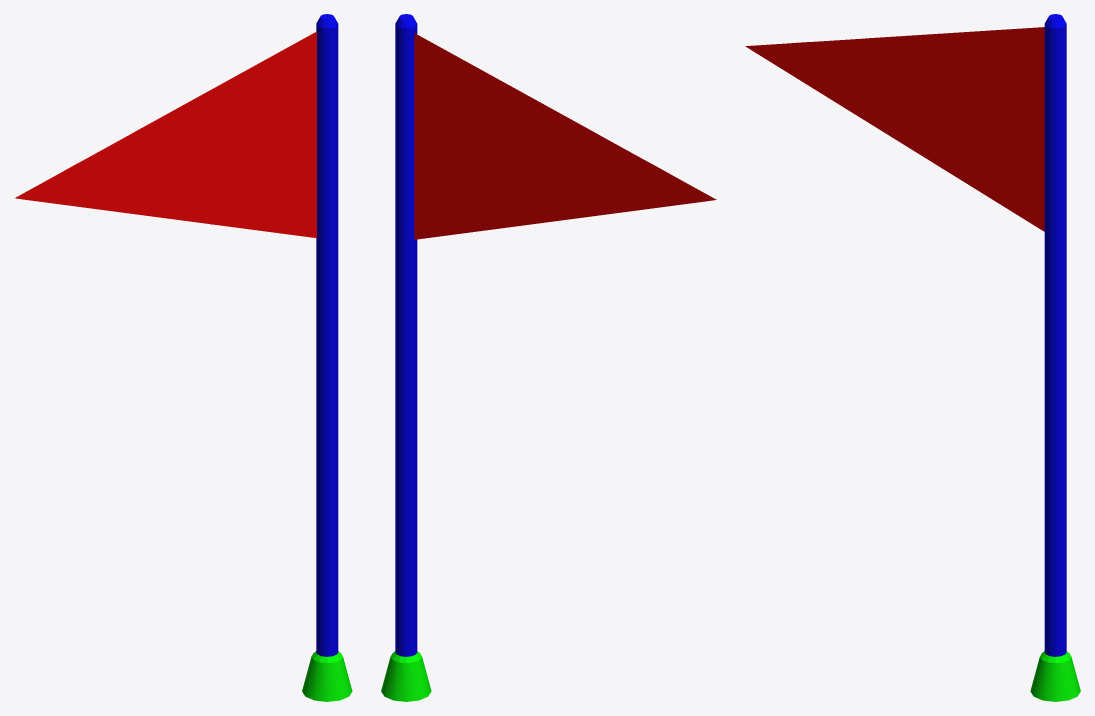
Rendered from Flag.FBX.
3 views of the same model, side by side, from view 1: azimuth 30°, elevation 25°; view 2: azimuth 150°, elevation 25°; view 3: azimuth 330°, elevation 25° (orthographic).
Visible parts, largest first — view 1: Flag, Cylinder013; view 2: Flag, Cylinder013; view 3: Flag, Cylinder013.
Boxes of the visible parts, box(x1,y1,x2,y2) form: Flag: box(15, 31, 316, 238); Cylinder013: box(302, 14, 352, 701); Flag: box(414, 33, 716, 239); Cylinder013: box(381, 14, 431, 701); Flag: box(745, 27, 1044, 231); Cylinder013: box(1030, 14, 1080, 701).
Size of the model in its own units: 105 by 202 by 13.73.
